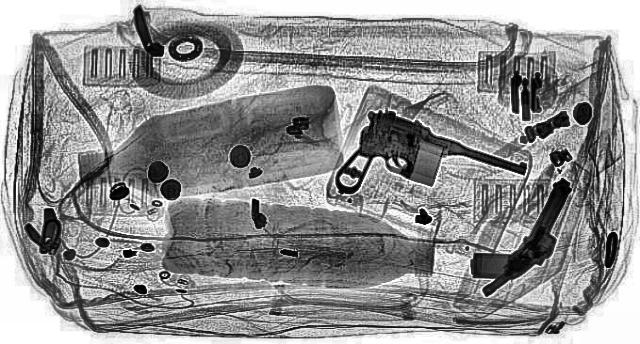Gun: (276, 104, 536, 230), (480, 177, 592, 301)
